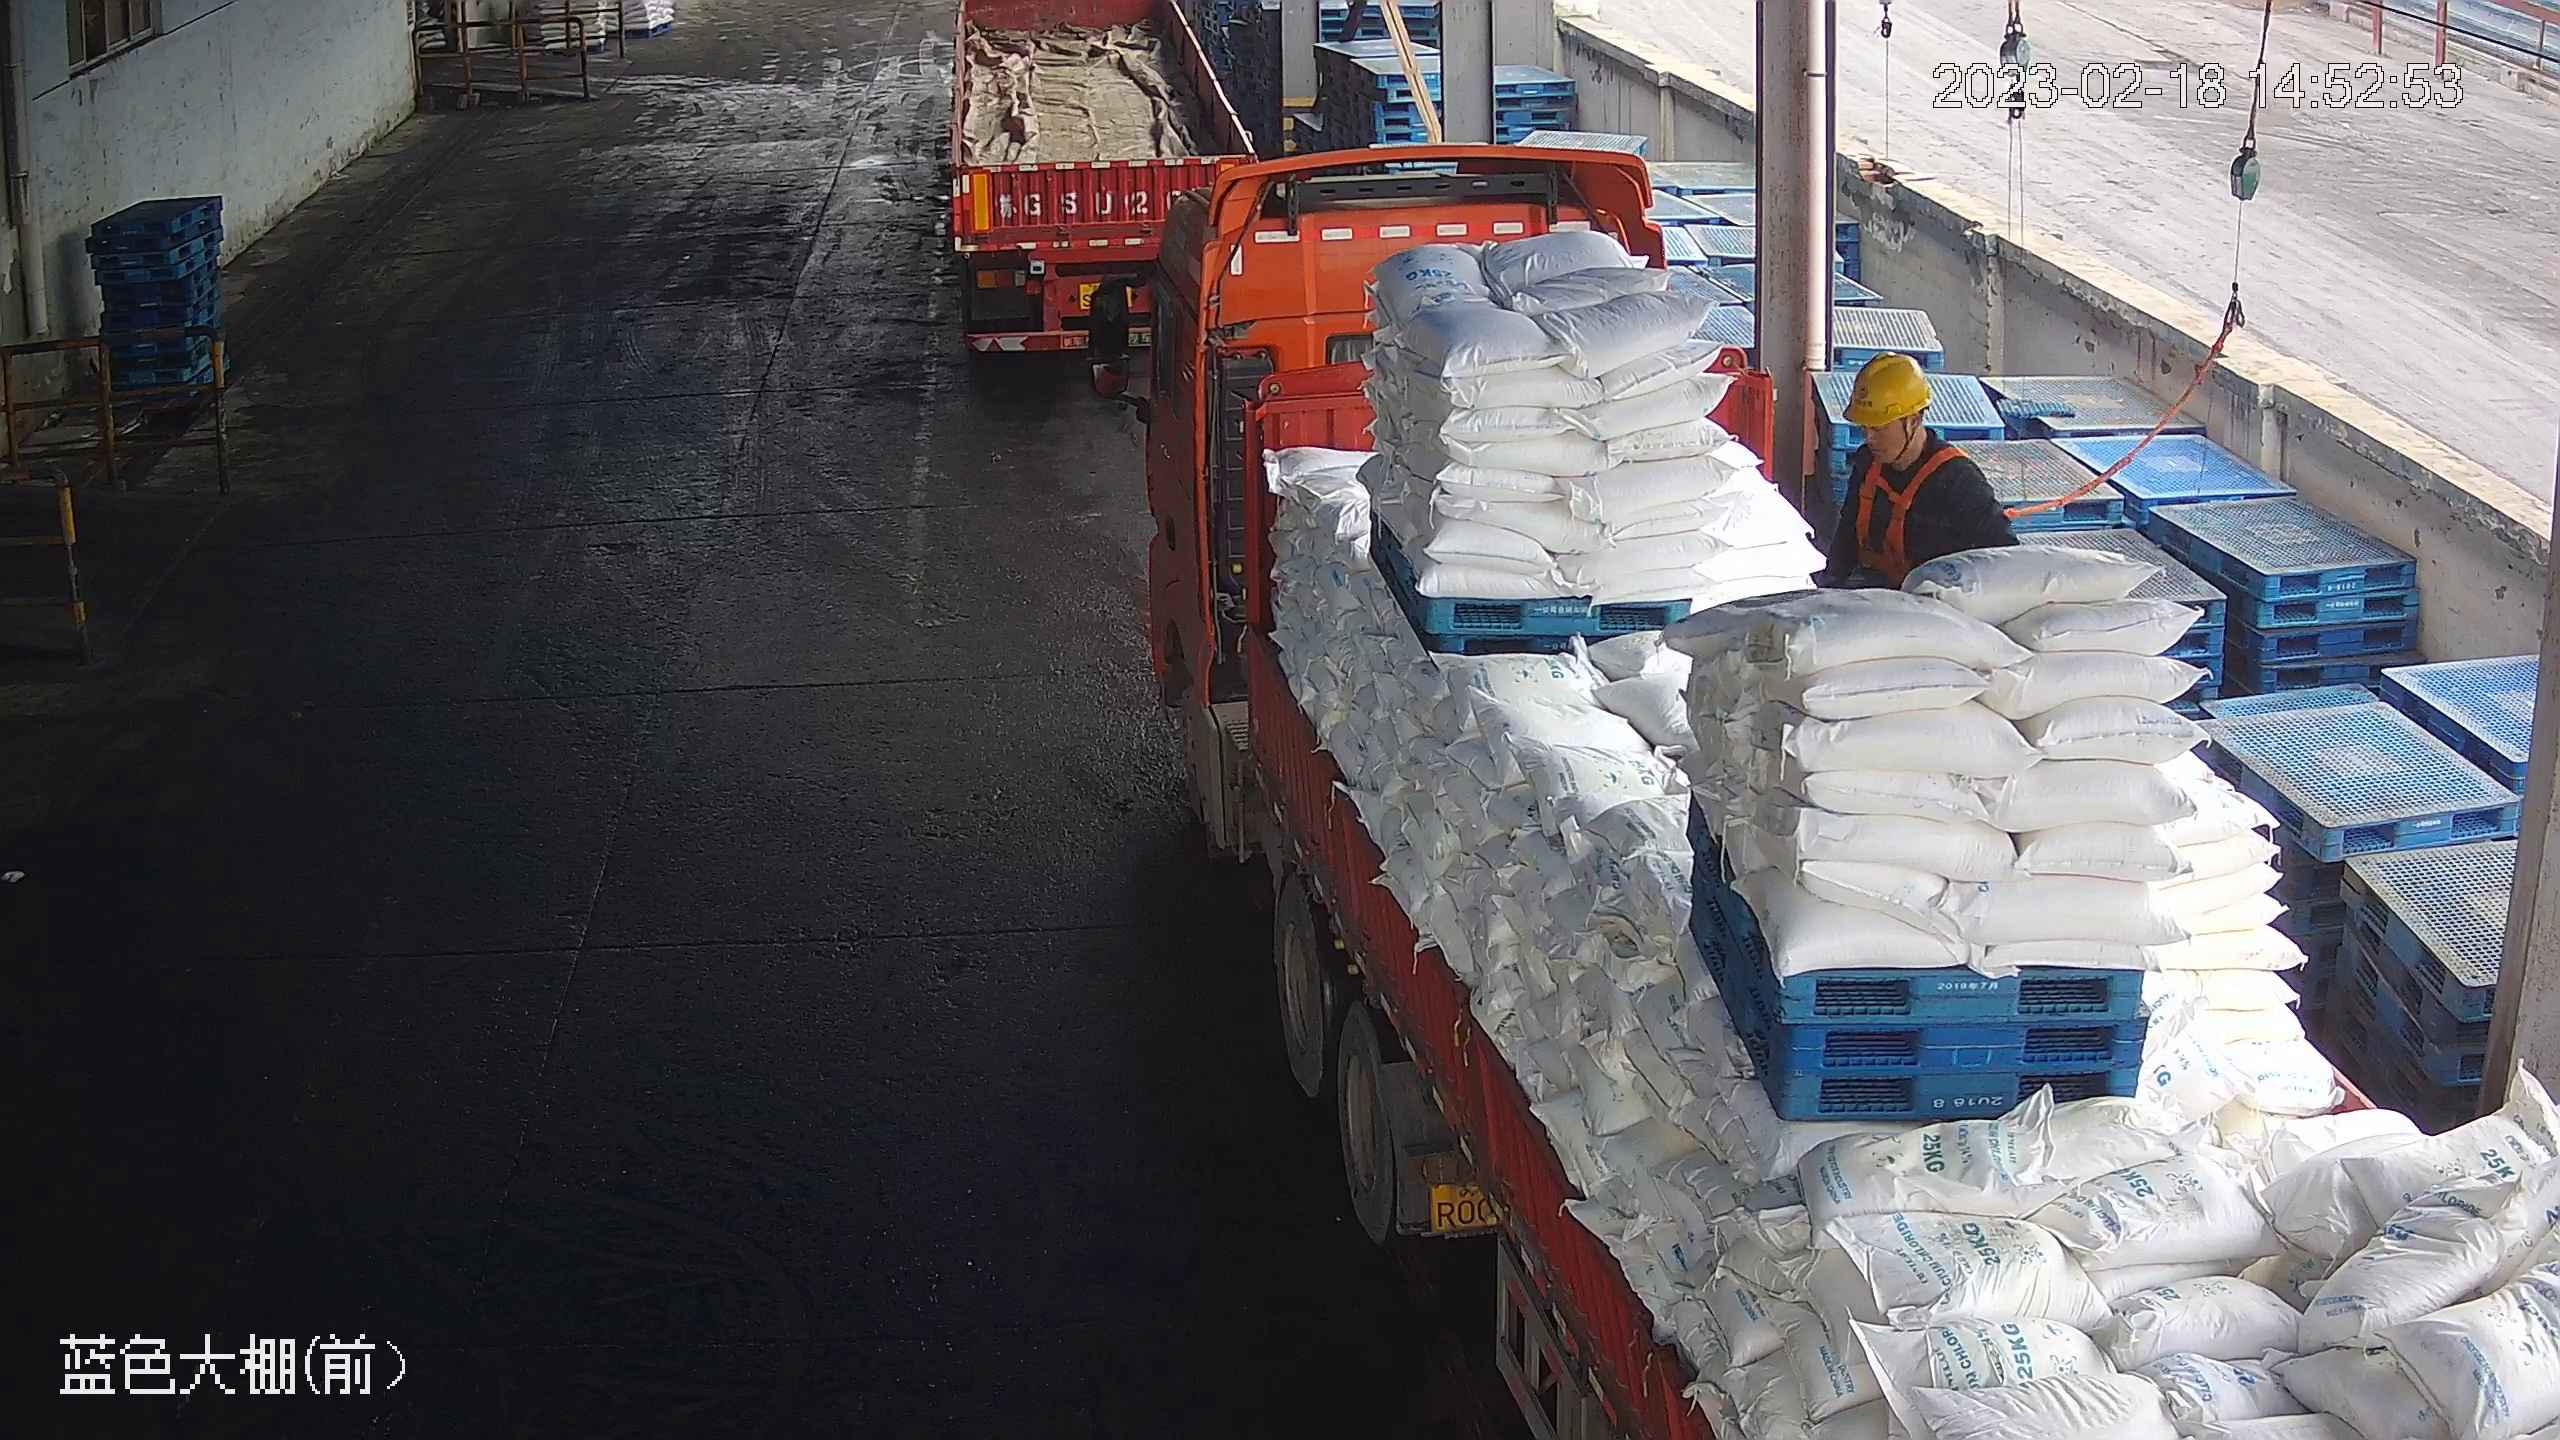belt: (1855, 441, 1967, 575)
head: (1835, 350, 1999, 521)
helmet: (1840, 350, 1935, 424)
truck: (1065, 156, 2553, 1440), (917, 1, 1295, 346)
